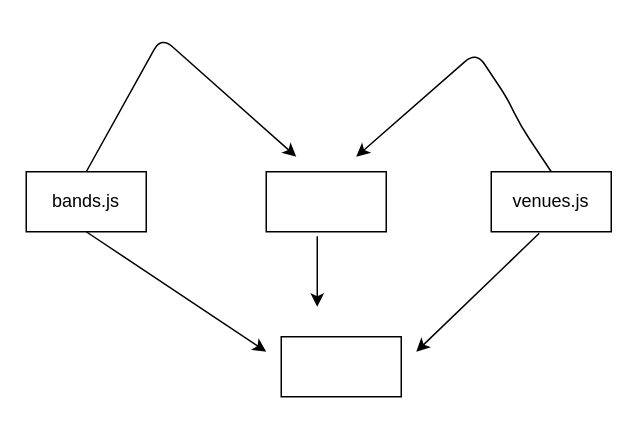
The diagram is 638 pixels wide and 423 high, and some of its shapes have lost their labels. The centre of each missing label's shape, as x and y in pixels:
"bookings.js" belongs at pixel 325 201.
"main.js" belongs at pixel 340 366.
